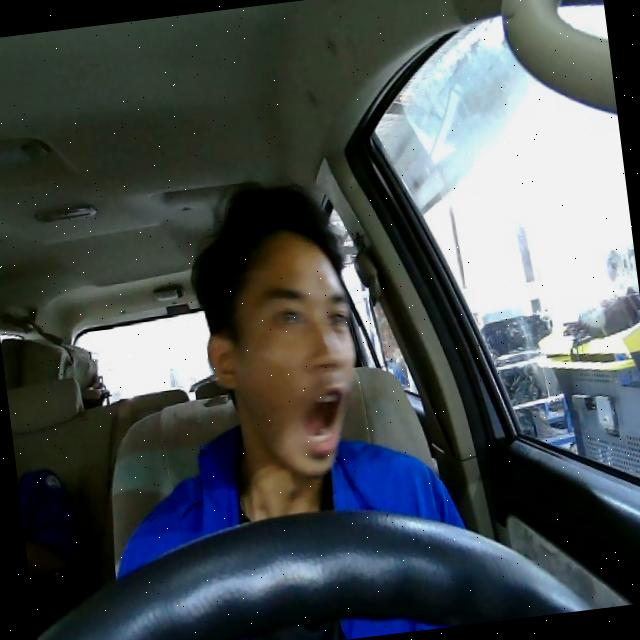yarning: (192, 223, 370, 488)
